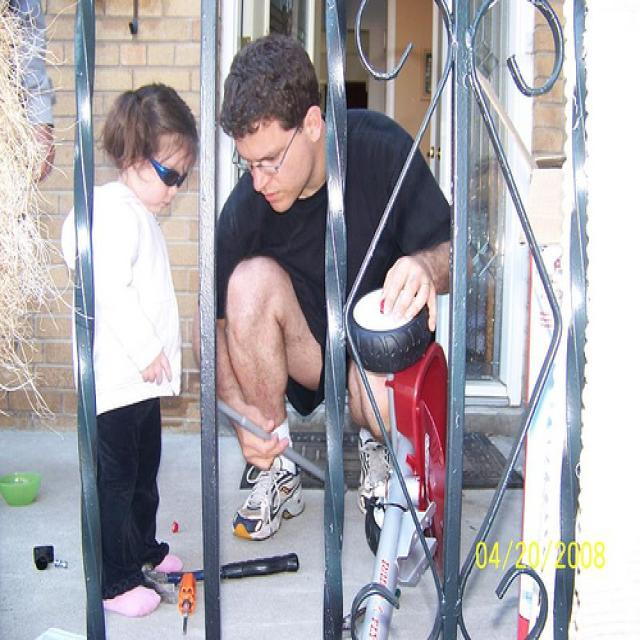screw driver: (161, 556, 200, 640)
